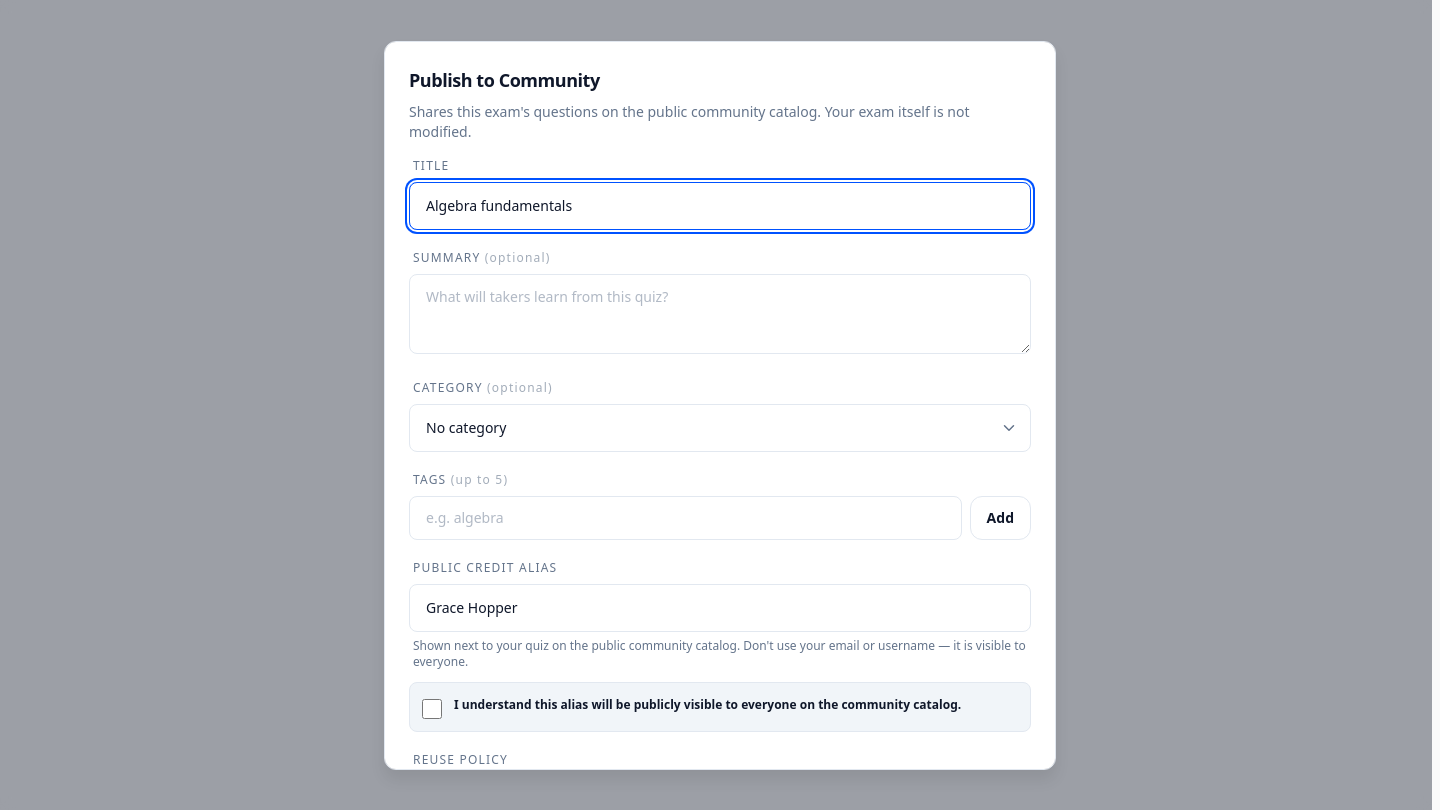
PublishToCommunityDialog › surfaces the exists-conflict with a link to /community/mine and never publishes
The width and height of the screenshot is (1440, 810).
Click the checkbox labelled "publicly visible to everyone".
click(432, 708)  # box [422, 698, 442, 718]
(page scrolled)
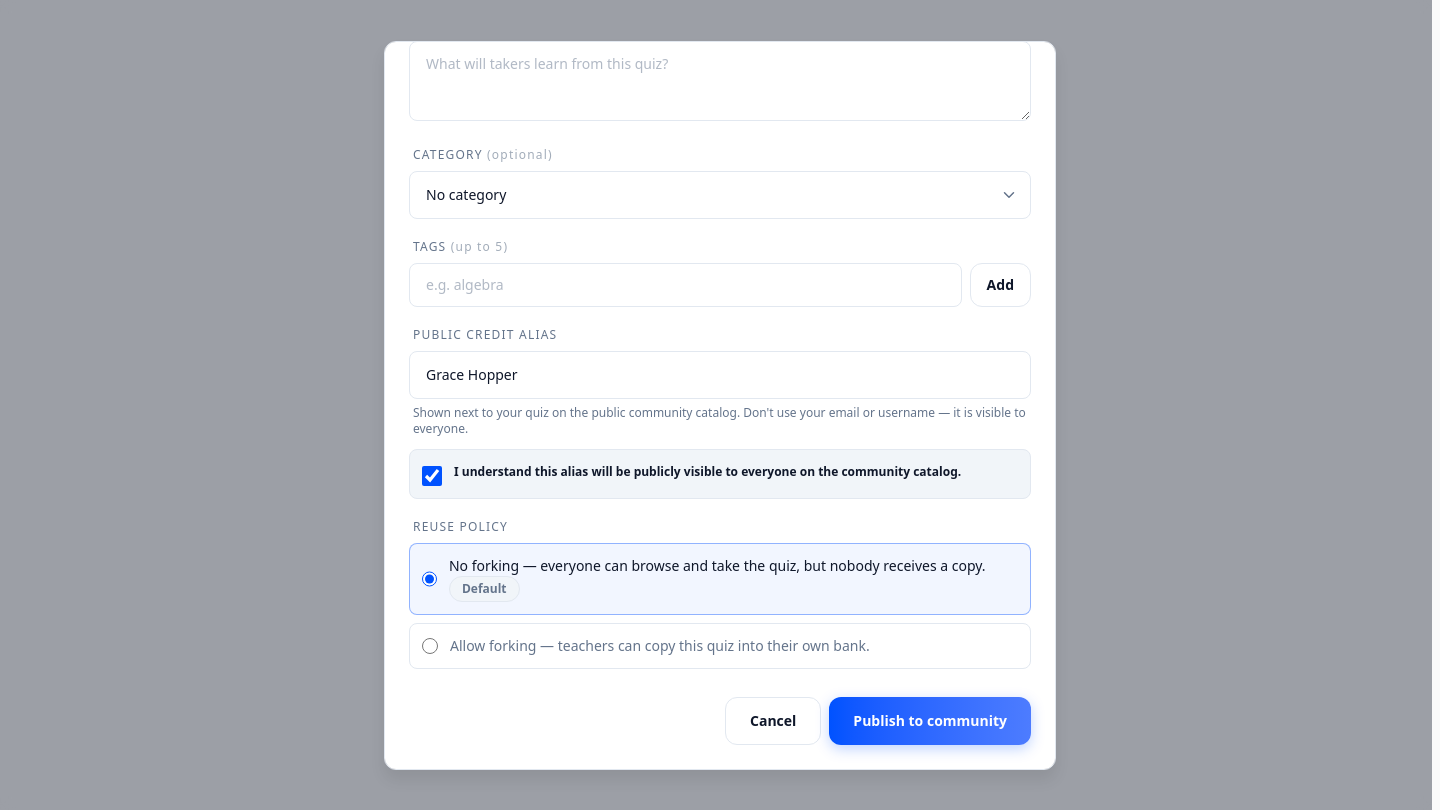
Click the button "Publish to community".
click(930, 720)  # box [829, 696, 1031, 744]
(page scrolled)
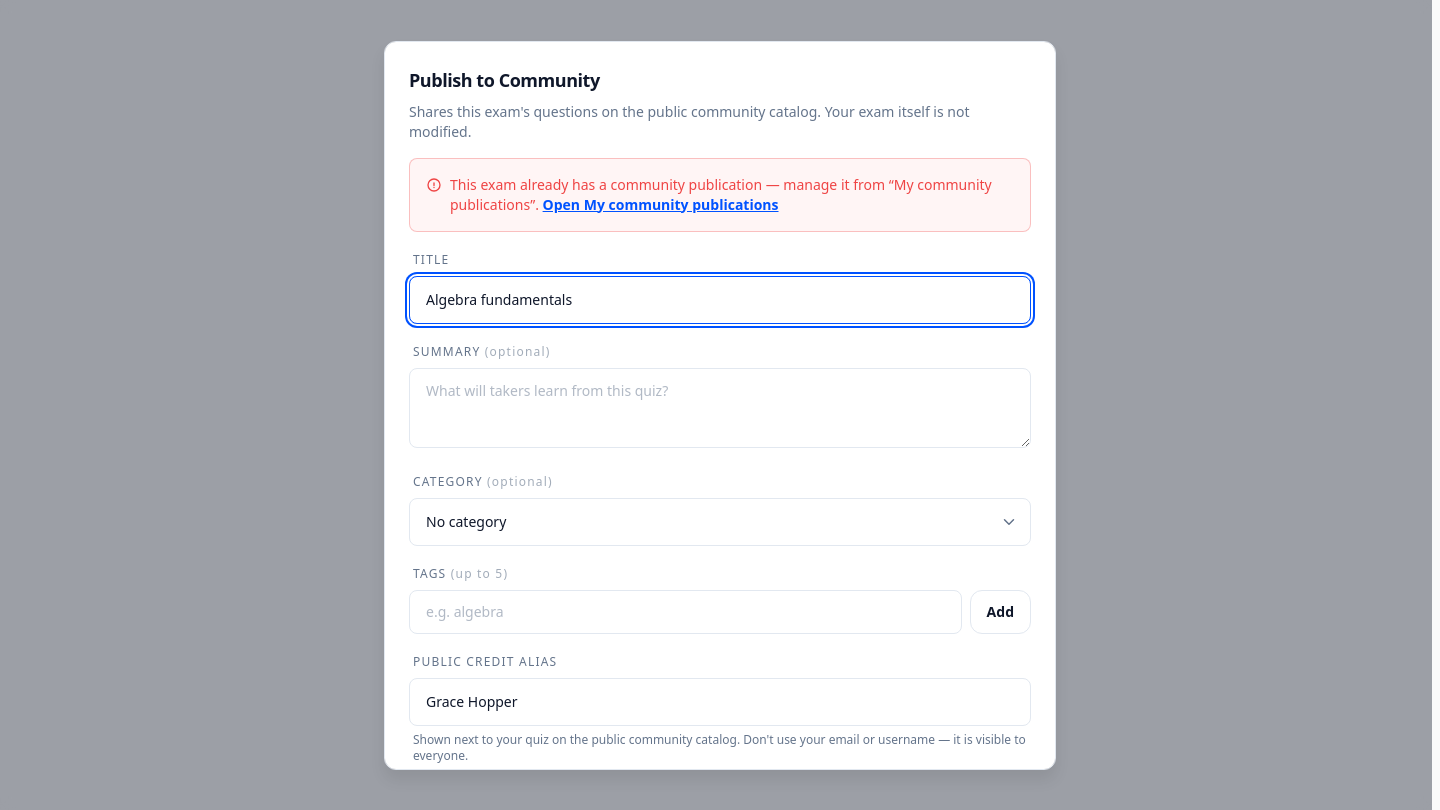
Check: the message shows "already has a community publication", box [450, 174, 992, 214]
